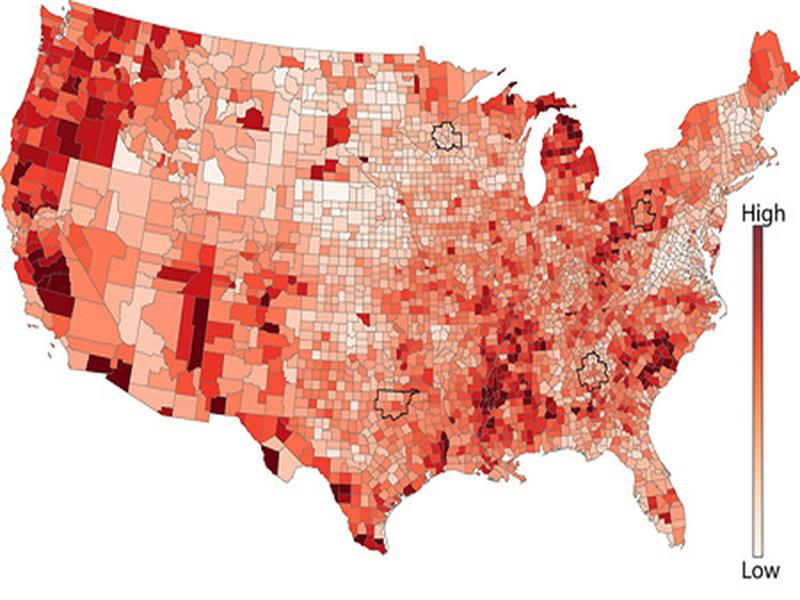legend: (739, 199, 788, 583)
